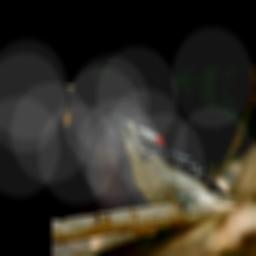Woodpecker: (102, 109, 256, 225)
